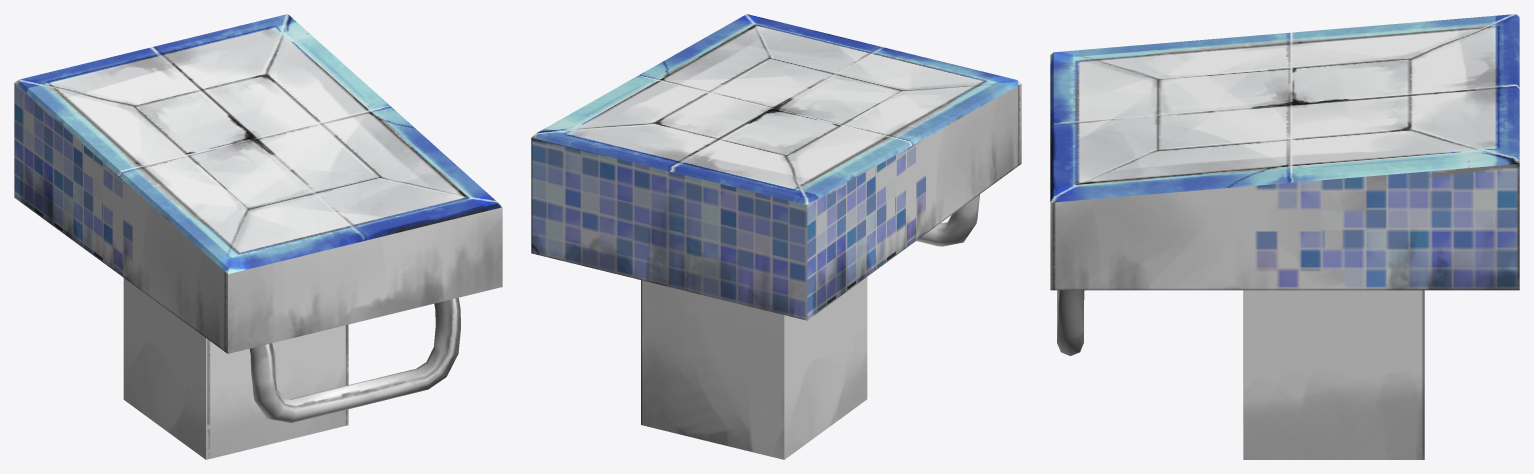
The model's file is SmallJump_Asset.fbx.
The picture shows the model from 3 angles, left to right: view 1: azimuth 30°, elevation 25°; view 2: azimuth 150°, elevation 25°; view 3: azimuth 270°, elevation 25°; orthographic projection. The views are drawn at different scales.
Parts seen in each view (by area): view 1: SmallJump, SmallJumpHandle; view 2: SmallJump, SmallJumpHandle; view 3: SmallJump, SmallJumpHandle.
Part boxes in pixels (x1,y1,x2,y2): SmallJump: (14,14,502,459); SmallJumpHandle: (249,297,460,422); SmallJump: (531,14,1021,459); SmallJumpHandle: (916,194,979,246); SmallJump: (1050,14,1519,459); SmallJumpHandle: (1057,290,1084,355).
Size of the model in its own units: 70.4 by 94.77 by 74.69.
